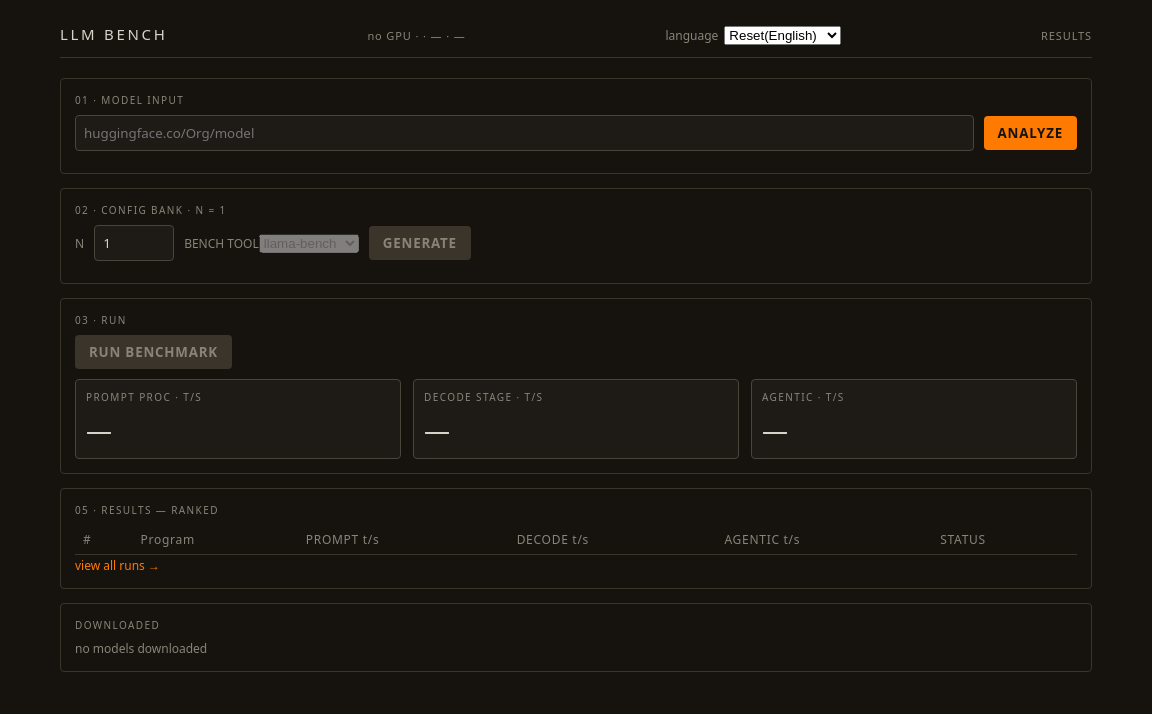
Test case: run that fails on the backend re-enables RUN and shows the failure
The image size is (1152, 714).
Type "org/model" into the field with placeholder "huggingface.co/Org/model" at (524, 133), box [75,115,974,151]
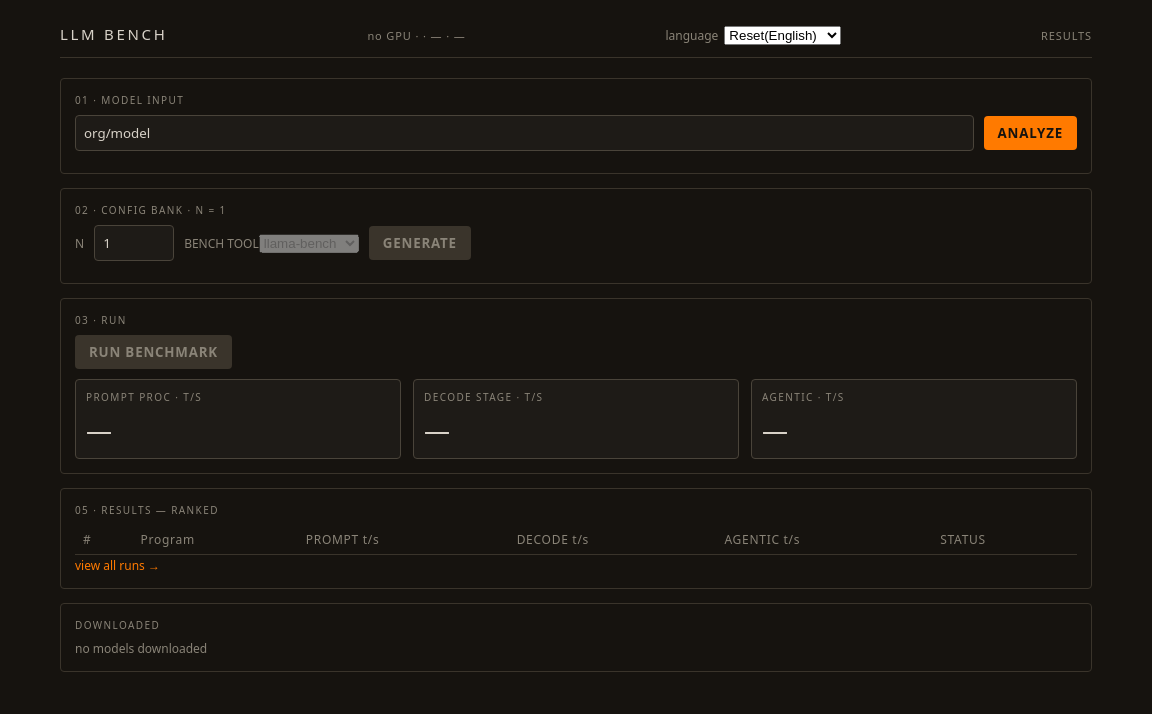
Click the button "ANALYZE" at (1030, 133), box [984,116,1077,150]
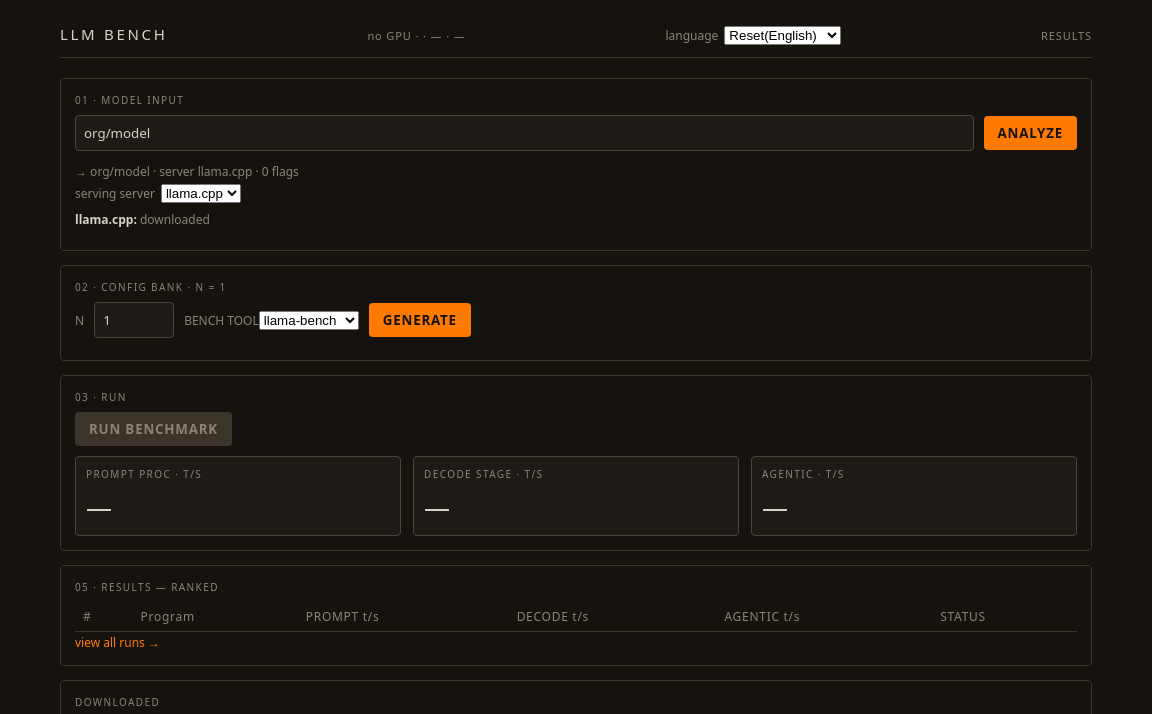
Now the text "→ org/model · server llama.cpp · 0 flags" is shown, box [75,163,299,180]
Click the button "GENERATE" at (420, 320), box [369,303,471,337]
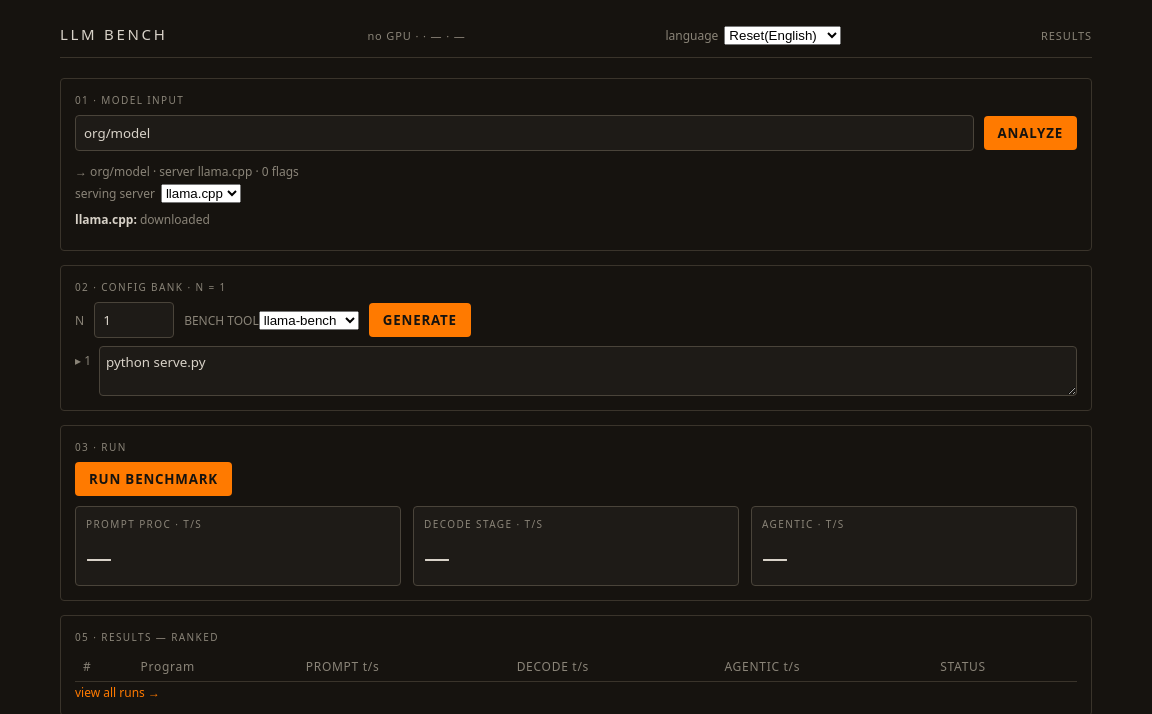
Now the text box "python serve" is shown, box [99,346,1077,396]
Click the button "RUN BENCHMARK" at (153, 479), box [75,462,232,496]
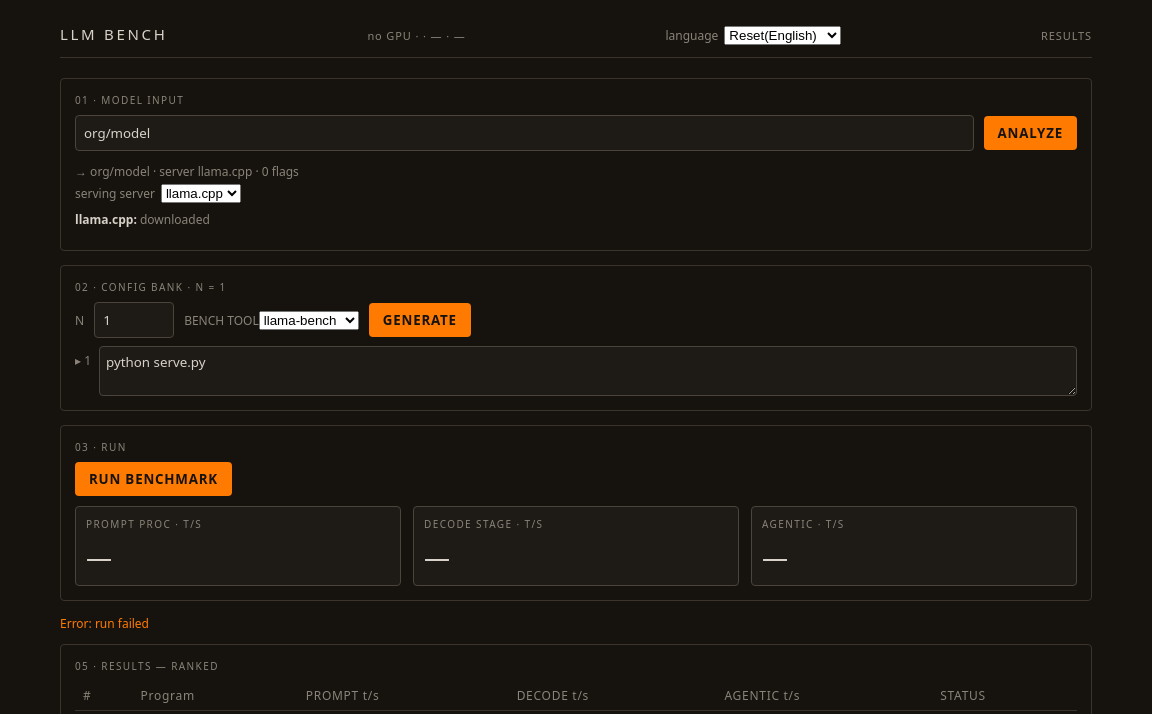
Now the button "RUN BENCHMARK" is enabled, box [75,462,232,496]
Now the text "Error: run failed" is shown, box [60,615,149,632]
